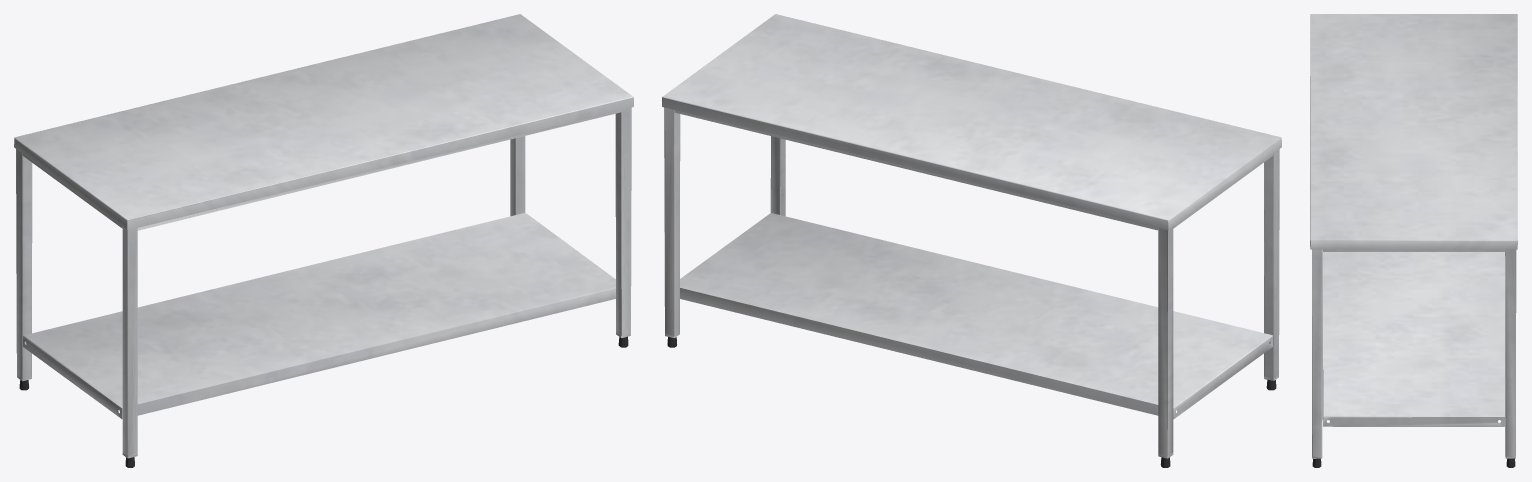
File: simready-table-stainless.lite.5aa7859f.glb
3 renders of one model, left to right at view 1: azimuth 30°, elevation 25°; view 2: azimuth 150°, elevation 25°; view 3: azimuth 270°, elevation 25°, orthographic. The views are drawn at different scales.
Parts seen in each view (by area): view 1: model; view 2: model; view 3: model.
Boxes of the visible parts, box(x1,y1,x2,y2) form: model: box(14, 14, 633, 467); model: box(662, 14, 1281, 467); model: box(1310, 14, 1517, 467).
Size of the model in its own units: 1.8 by 0.8499 by 0.6984.
2 materials, 2 textured.
